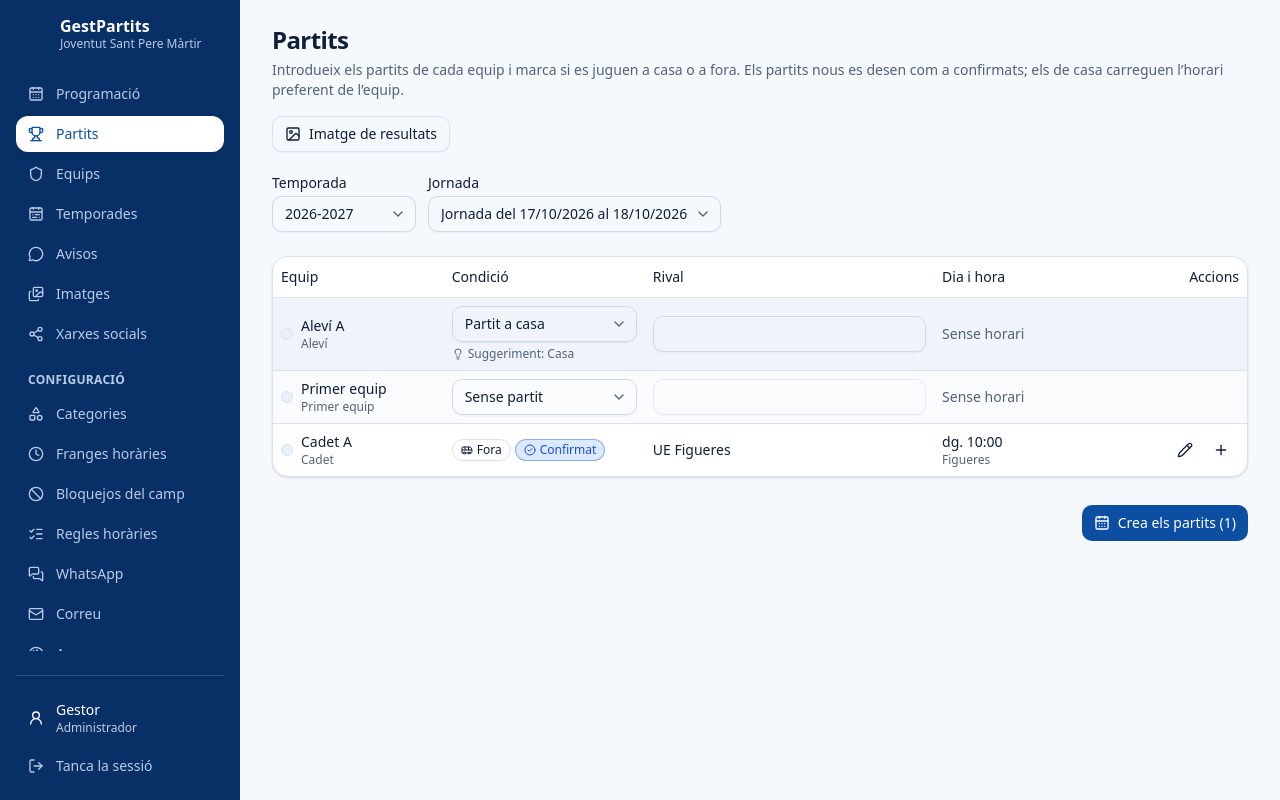
it: full ràpid de partits › no deixa crear un partit a fora amb una hora invàlida o sense dia
Select "Partit a fora" in the 2nd dropdown named "Condició · Primer equip". click: (544, 396)
box: [452,378,637,414]
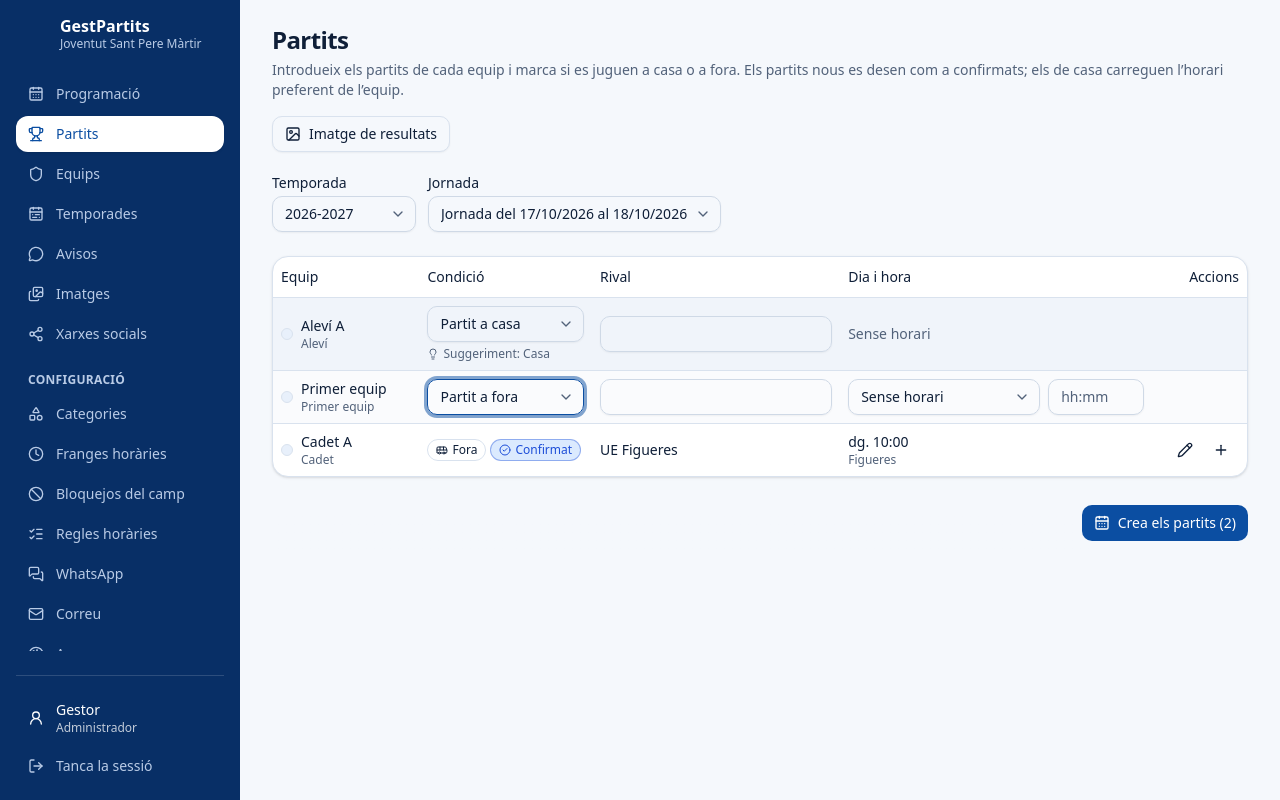
Type "25:99" into the field named "Hora del partit · Primer equip". click: (1096, 396)
box: [1048,378,1144,414]
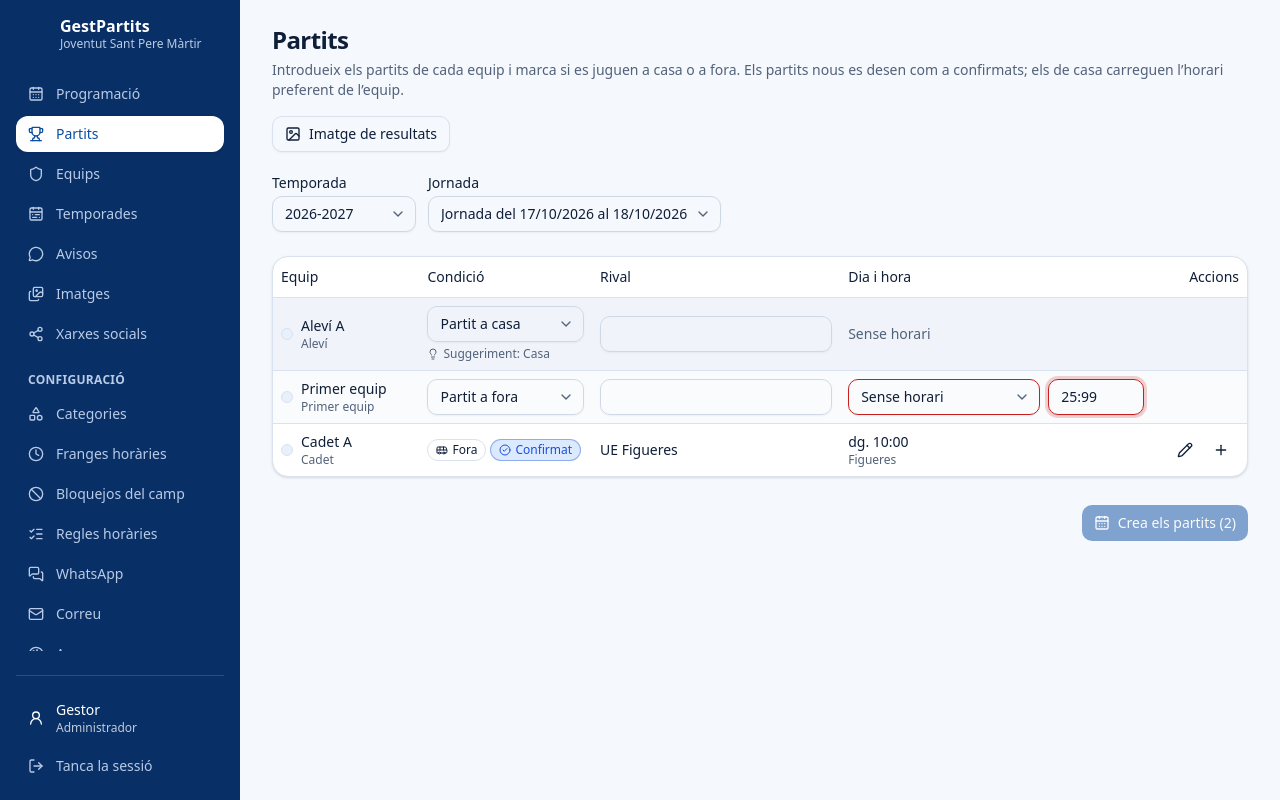
Expected: the button "Crea els partits (2)" is disabled, [1082,504,1248,540]
Replace the text in the 3rd field named "Hora del partit · Primer equip" with "10:10". click: (1096, 396)
box: [1048,378,1144,414]
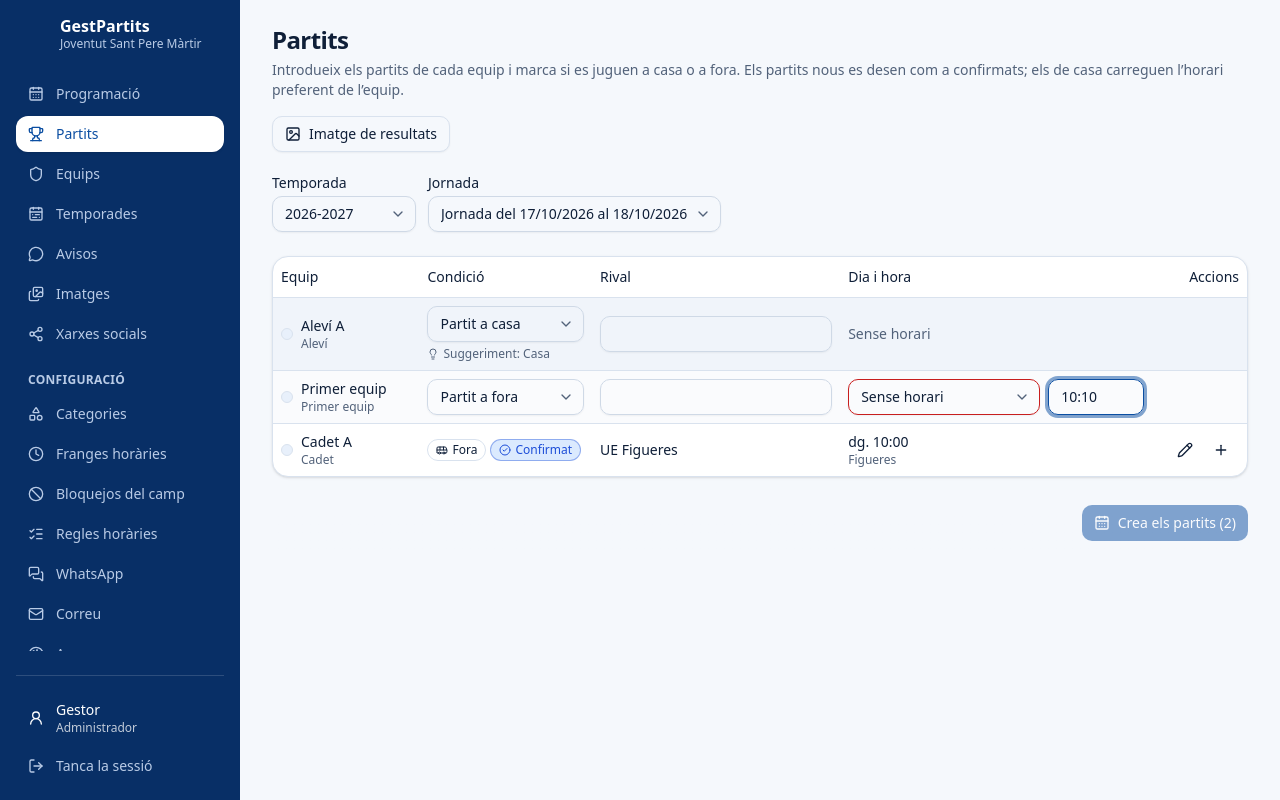
Expected: the button "Crea els partits (2)" is disabled, [1082,504,1248,540]
Select "dissabte 17/10/2026" in the 3rd dropdown named "Data · Primer equip". click: (944, 396)
box: [848,378,1040,414]
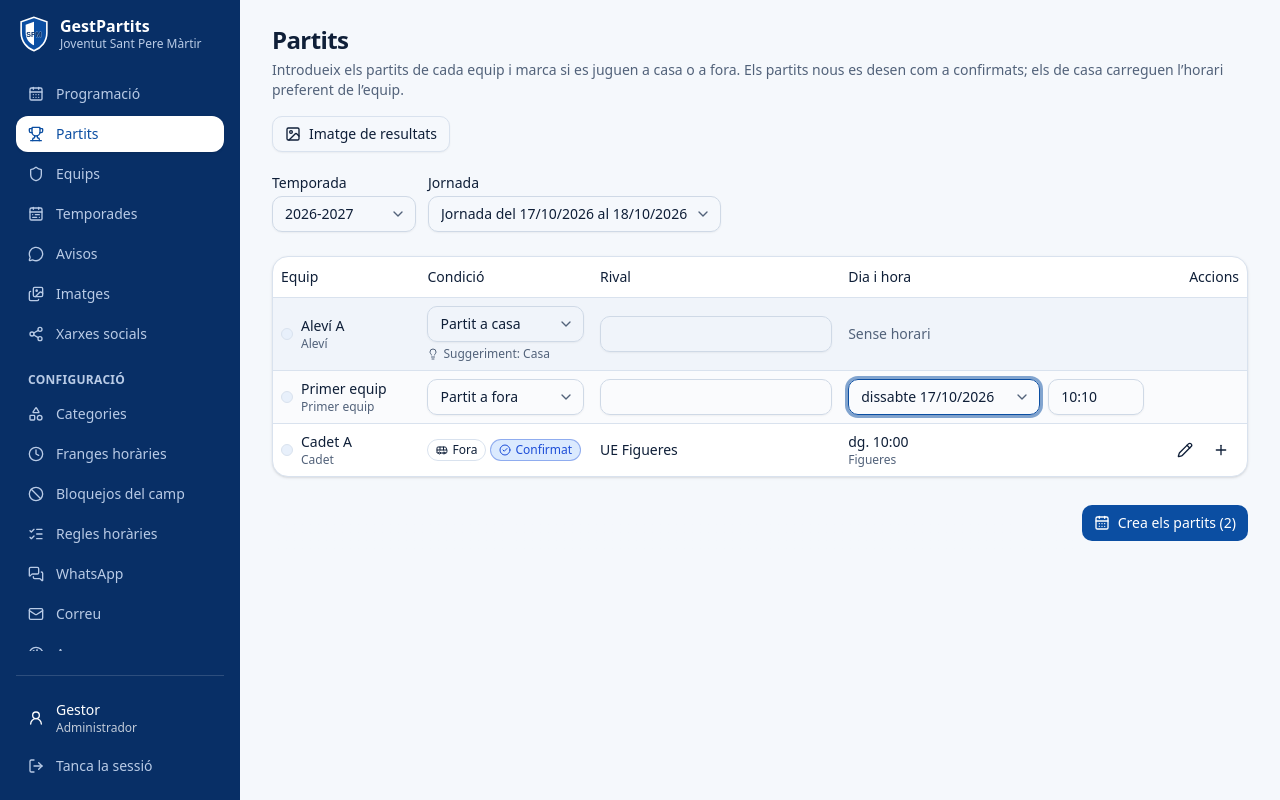
Expected: the button "Crea els partits (2)" is enabled, [1082,504,1248,540]
